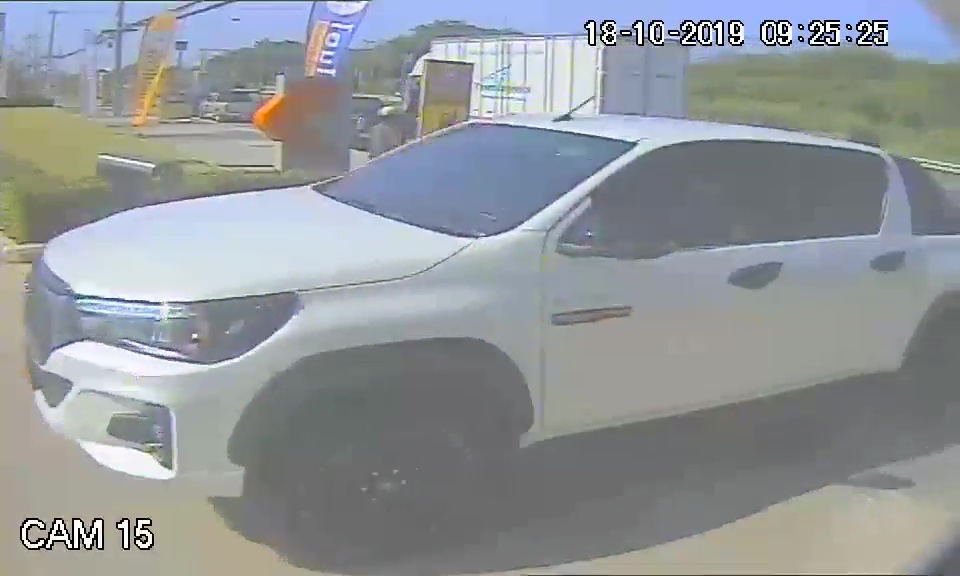pickup: (23, 111, 960, 505)
